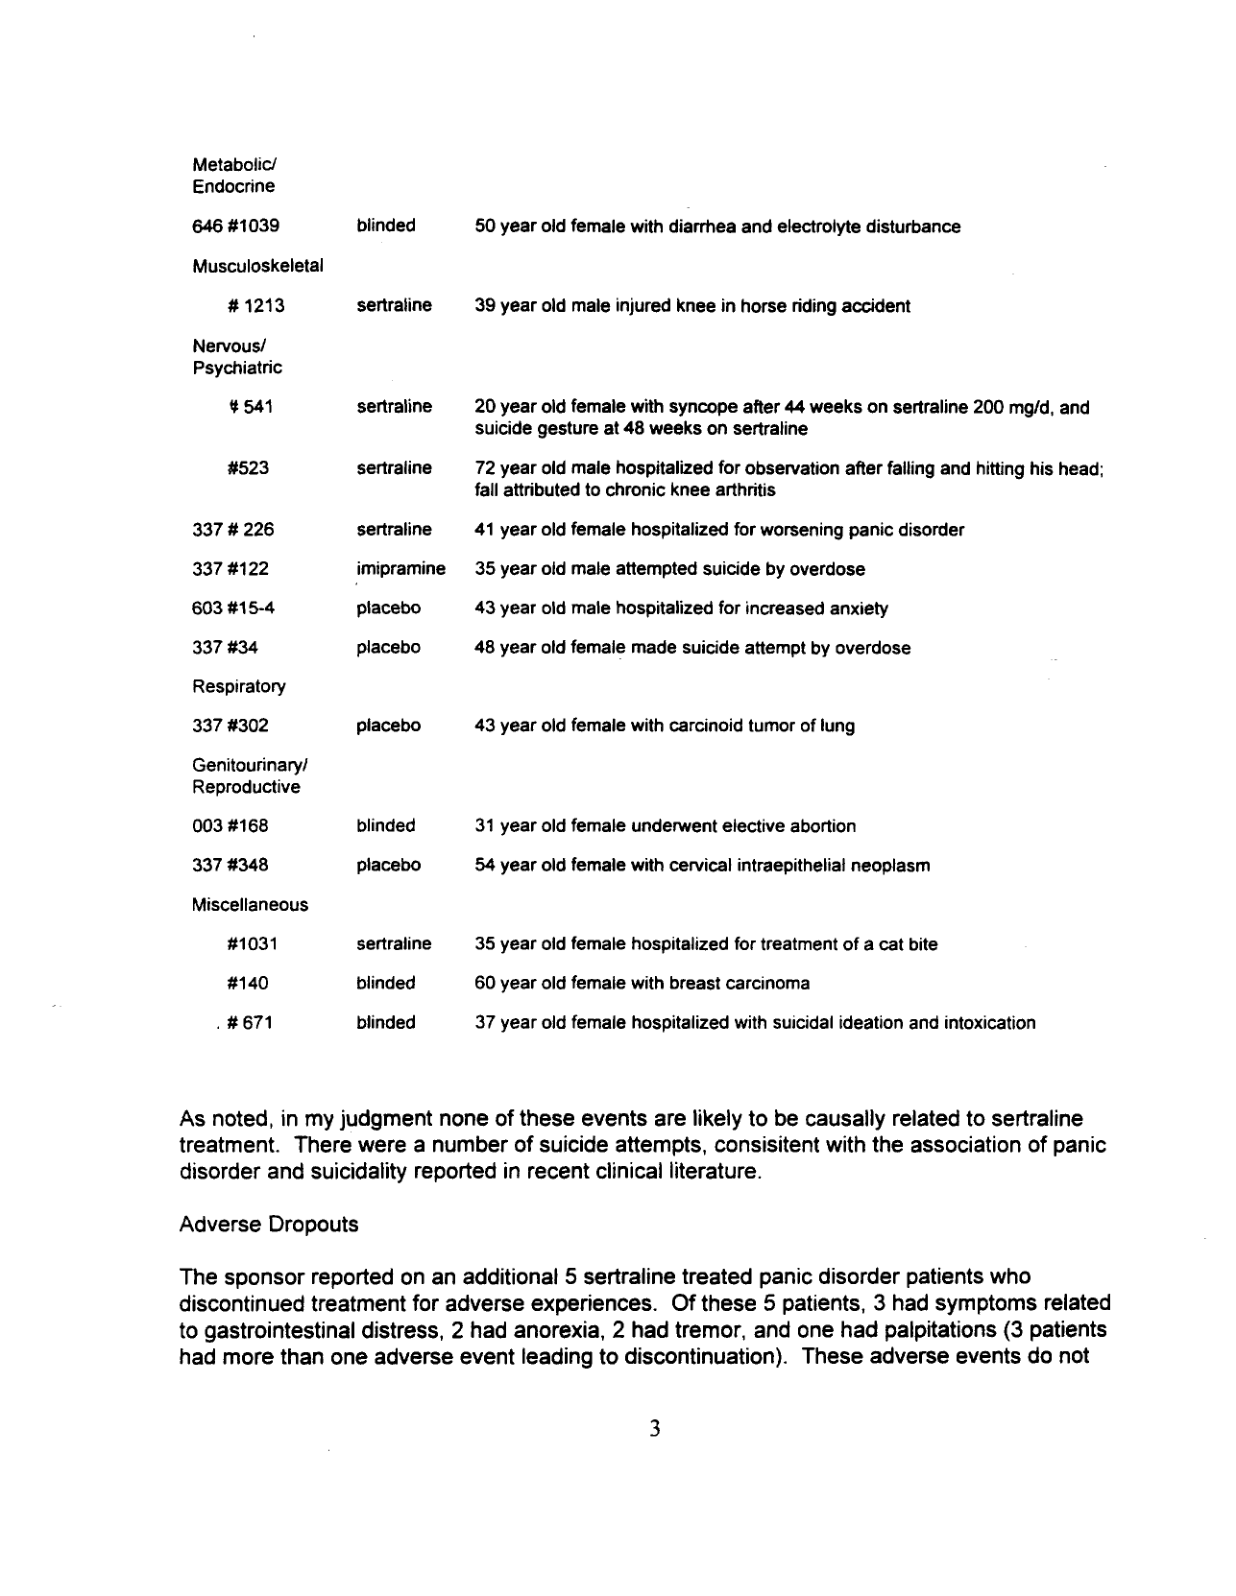nolines: (181, 146, 1116, 1040)
